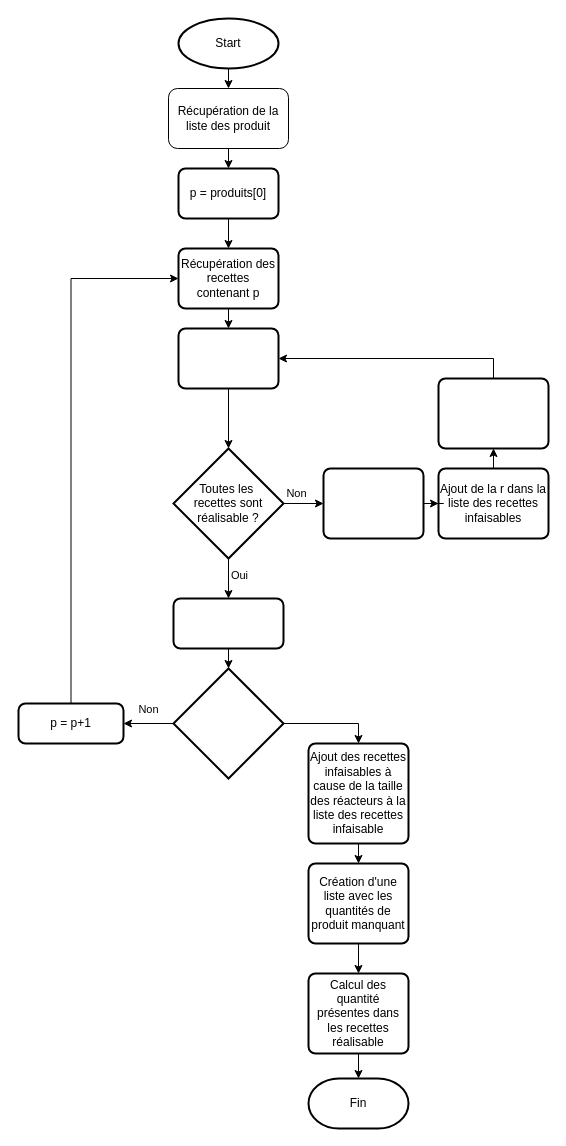
This 566x1146 diagram has some shape labels left out. Here are the shapes that lost their labels. From the top down, the centre of each, then its label:
pixel 228 358: Lancement de l'optimisateur
pixel 493 413: Suppression de r dans la liste des recettes
pixel 373 503: r = la recette utilisant le plus de slack variable
pixel 228 623: Ajout des ids dans la liste des identifiants
pixel 228 723: p = dernier produit?
